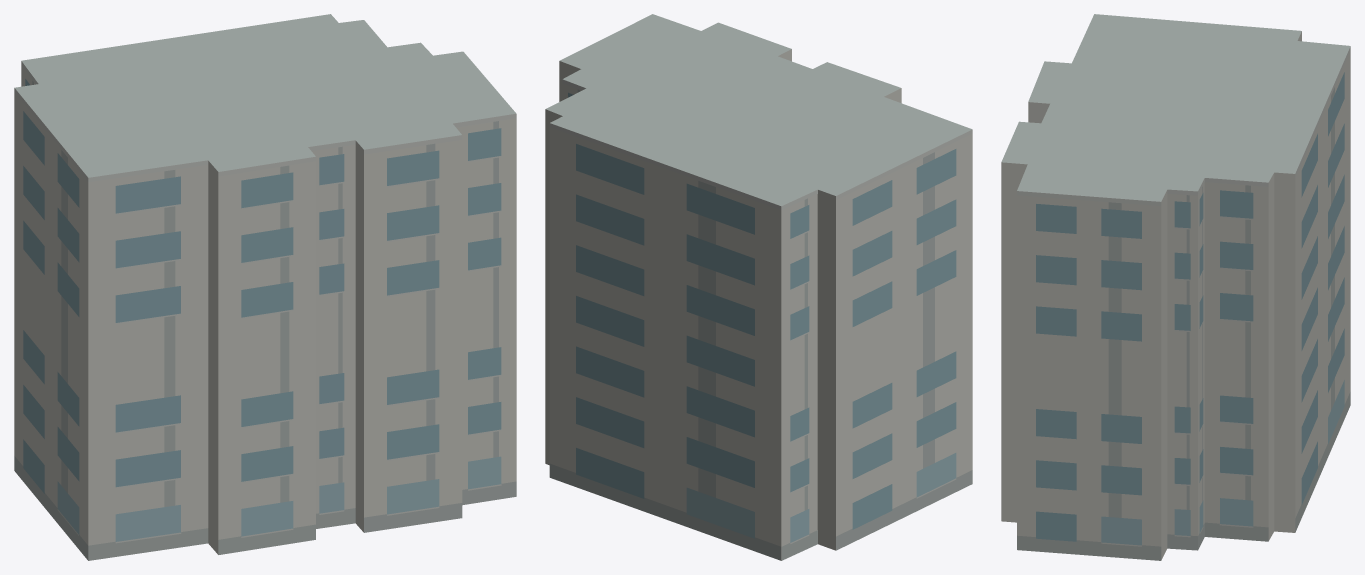
Rendered from survey-upis-32668516.glb.
The picture shows the model from 3 angles, left to right: view 1: azimuth 30°, elevation 25°; view 2: azimuth 150°, elevation 25°; view 3: azimuth 270°, elevation 25°; orthographic projection. The views are drawn at different scales.
Visible parts, largest first — view 1: survey-upis-32668516.tmp; view 2: survey-upis-32668516.tmp; view 3: survey-upis-32668516.tmp.
Part boxes in pixels (x1,y1,x2,y2): survey-upis-32668516.tmp: (14, 14, 516, 560); survey-upis-32668516.tmp: (545, 14, 972, 560); survey-upis-32668516.tmp: (1001, 14, 1350, 560).
Size of the model in its own units: 22.56 by 20.1 by 17.74.
